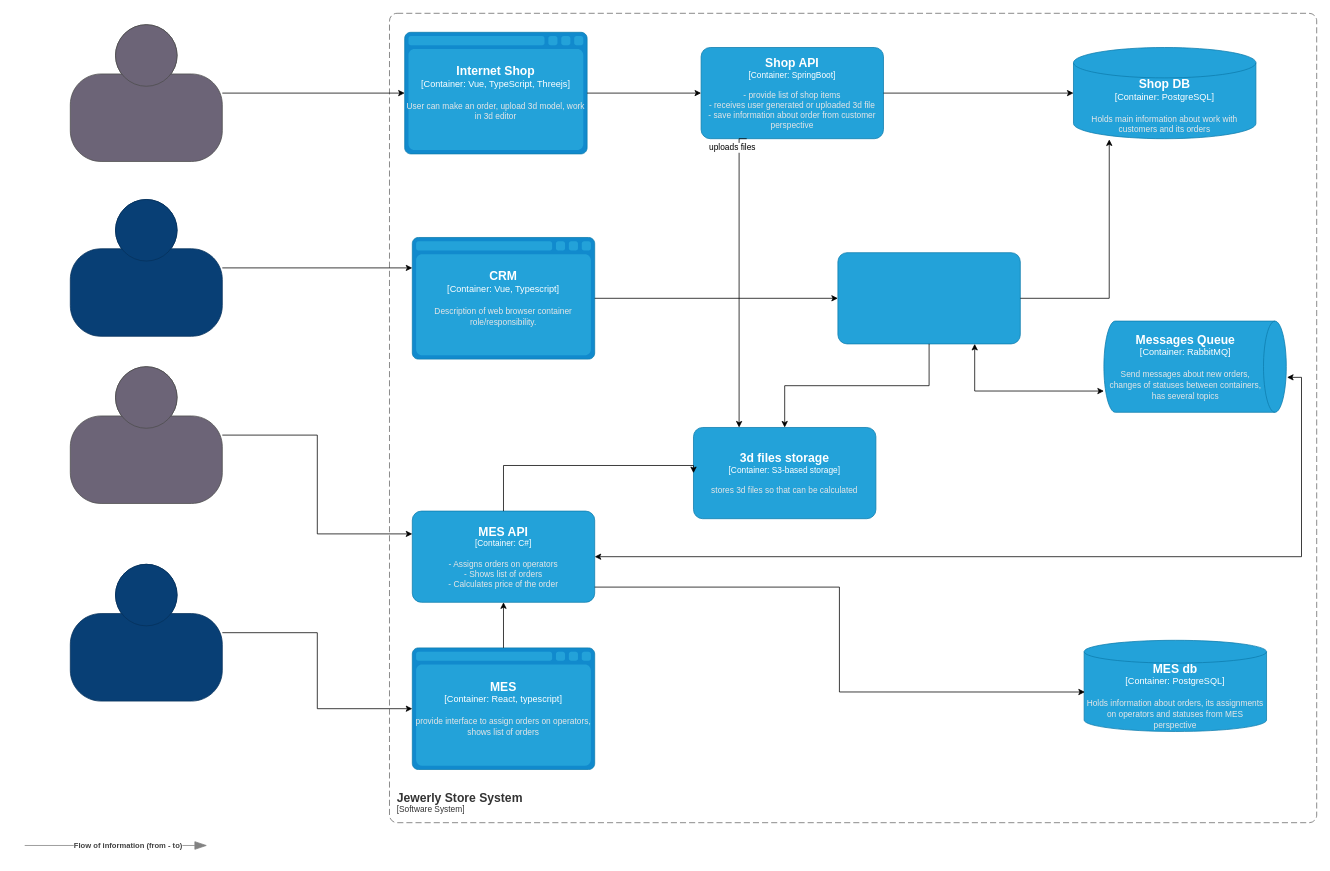
Some shapes in this 1330 by 871 pixel diagram are drawn without their labels. The centre of each missing label's shape, as x and y in pixels:
"API user [Person] Description of external person." goes at [146,435].
"CRM API [Container: SpringBoot] Description of container role/responsibility." goes at [928,298].
"Customer [Person] Description of external person." goes at [146,93].
"Operator [Person] Takes order in work, manufactures jewerly" goes at [146,632].
"Seller [Person] Operates with order, confirms manufacturing for the user" goes at [146,267].
